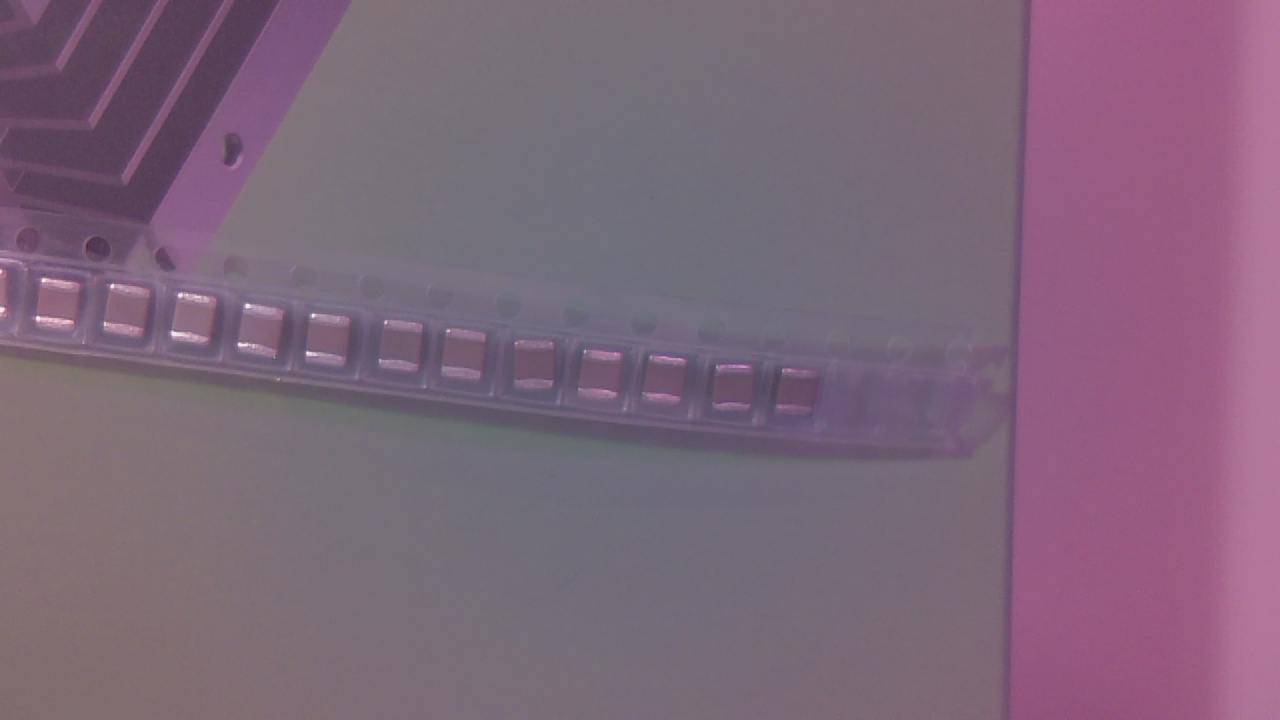Condensator: (39, 280, 92, 335), (241, 308, 291, 365), (382, 321, 431, 377), (107, 290, 158, 342), (581, 349, 627, 405), (448, 329, 493, 386), (310, 317, 357, 371), (175, 296, 222, 350), (712, 366, 759, 418), (517, 344, 562, 398), (648, 354, 695, 405), (779, 369, 825, 420)
